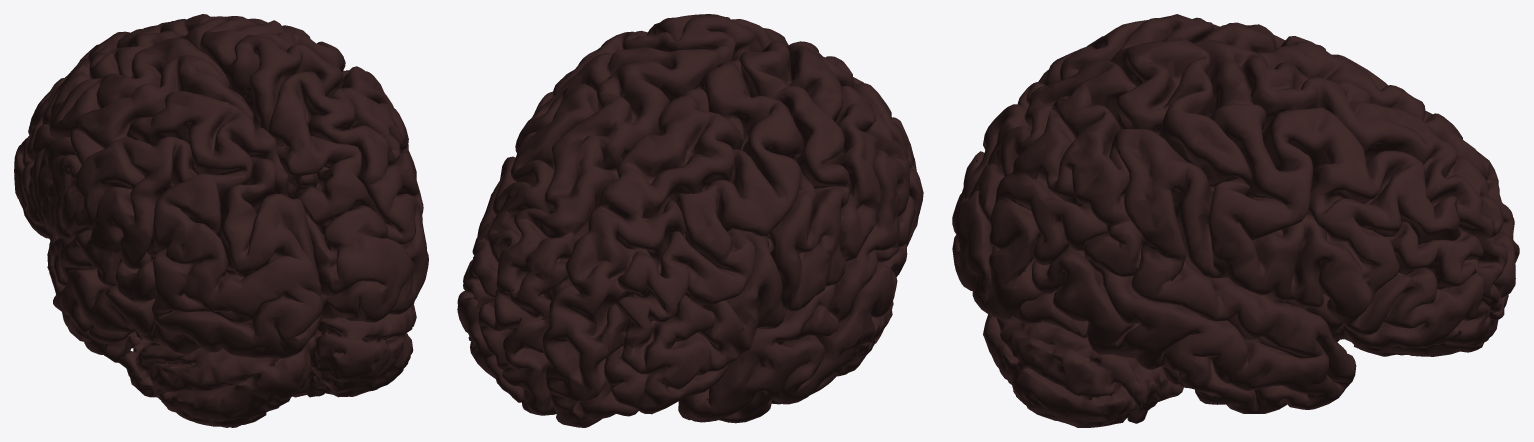
The model's file is cortex.glb.
The picture shows the model from 3 angles, left to right: view 1: azimuth 30°, elevation 25°; view 2: azimuth 150°, elevation 25°; view 3: azimuth 270°, elevation 25°; orthographic projection. The views are drawn at different scales.
Parts seen in each view (by area): view 1: Object_2; view 2: Object_2; view 3: Object_2.
Boxes of the visible parts, <box> form: Object_2: <box>14,14,428,427</box>; Object_2: <box>457,14,923,427</box>; Object_2: <box>952,14,1519,427</box>.
Bounding box in the file's own units: 133 × 140 × 188.
